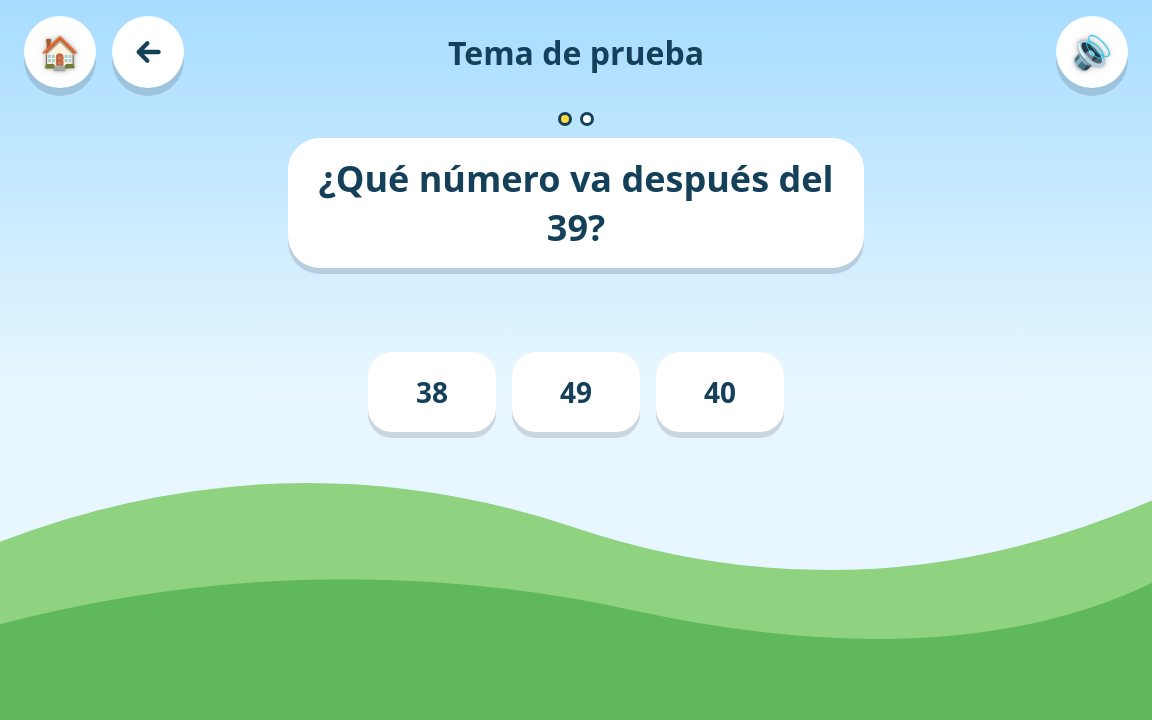
Scenario: Practice: ejercicios de elegir › ante un fallo anima, desactiva esa opción y deja volver a intentarlo
Click the button "38" at x=432, y=392, box x1=368 y1=352 x2=496 y2=432
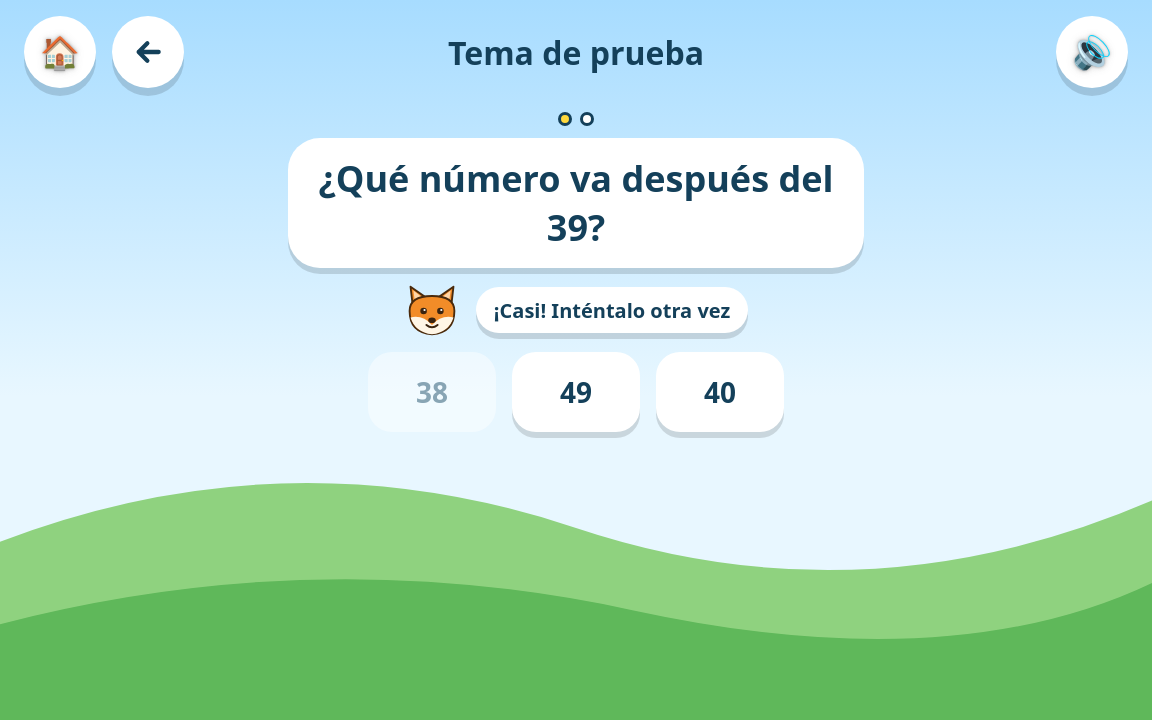
Expected: the button "40" is enabled, x1=656 y1=352 x2=784 y2=432
Expected: the text "¡Casi! Inténtalo otra vez" is shown, x1=476 y1=287 x2=748 y2=334
Expected: the button "38" is disabled, x1=368 y1=352 x2=496 y2=432
